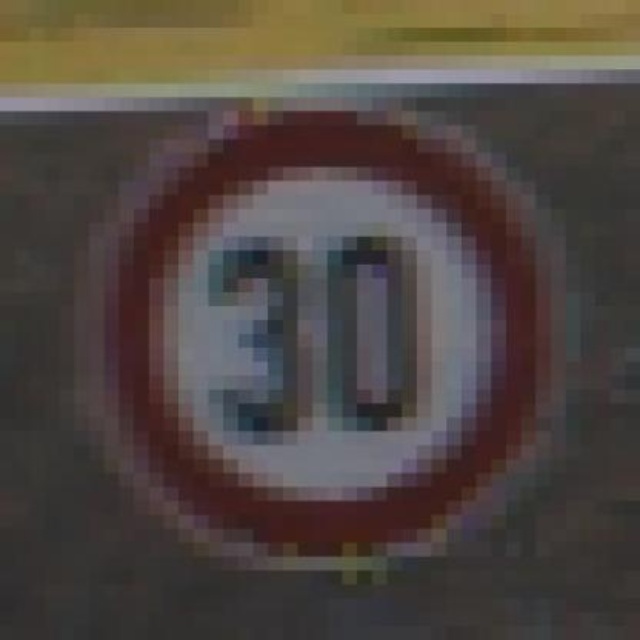Tốc độ tối đa cho phép 30km/h: (97, 102, 553, 567)
